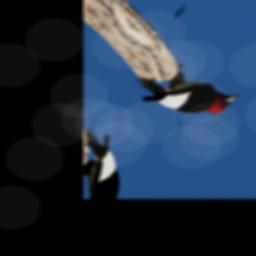Woodpecker: (126, 32, 243, 150)
